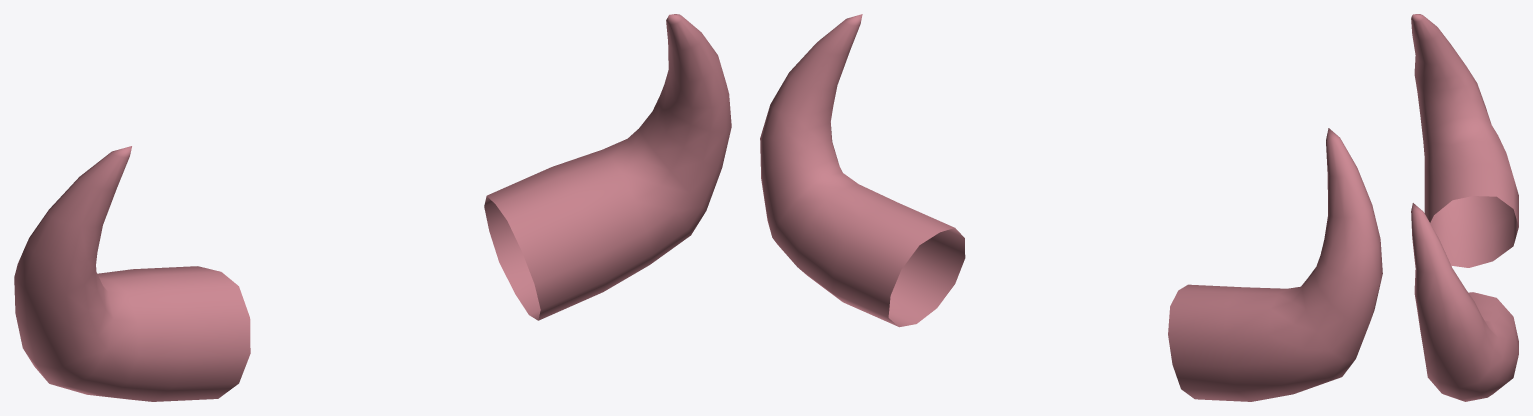
The model's file is Horns.fbx.
3 views of the same model, side by side, from view 1: azimuth 30°, elevation 25°; view 2: azimuth 150°, elevation 25°; view 3: azimuth 270°, elevation 25° (orthographic). The views are drawn at different scales.
Parts seen in each view (by area): view 1: Horns; view 2: Horns; view 3: Horns.
Boxes of the visible parts, x1,y1,x2,y2 form: Horns: (14, 14, 731, 401); Horns: (760, 14, 1382, 401); Horns: (1411, 14, 1518, 401).
Bounding box in the file's own units: 0.2876 × 0.1187 × 0.0531.
